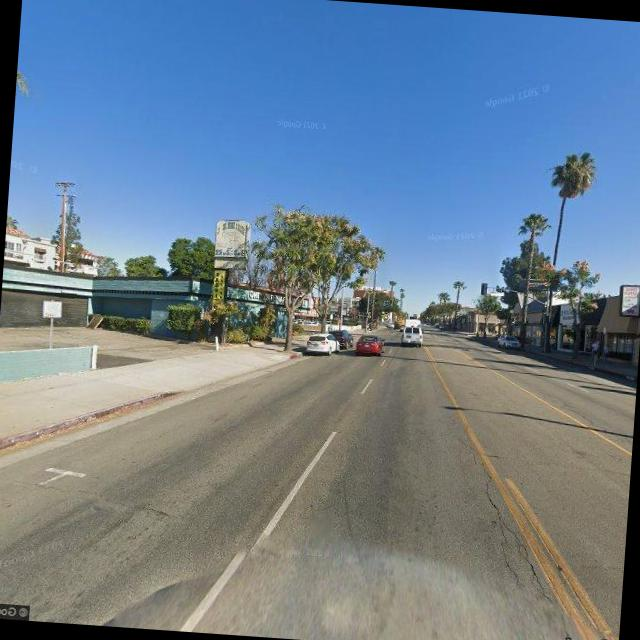crack: (457, 442, 562, 594)
pothole: (140, 502, 176, 522)
